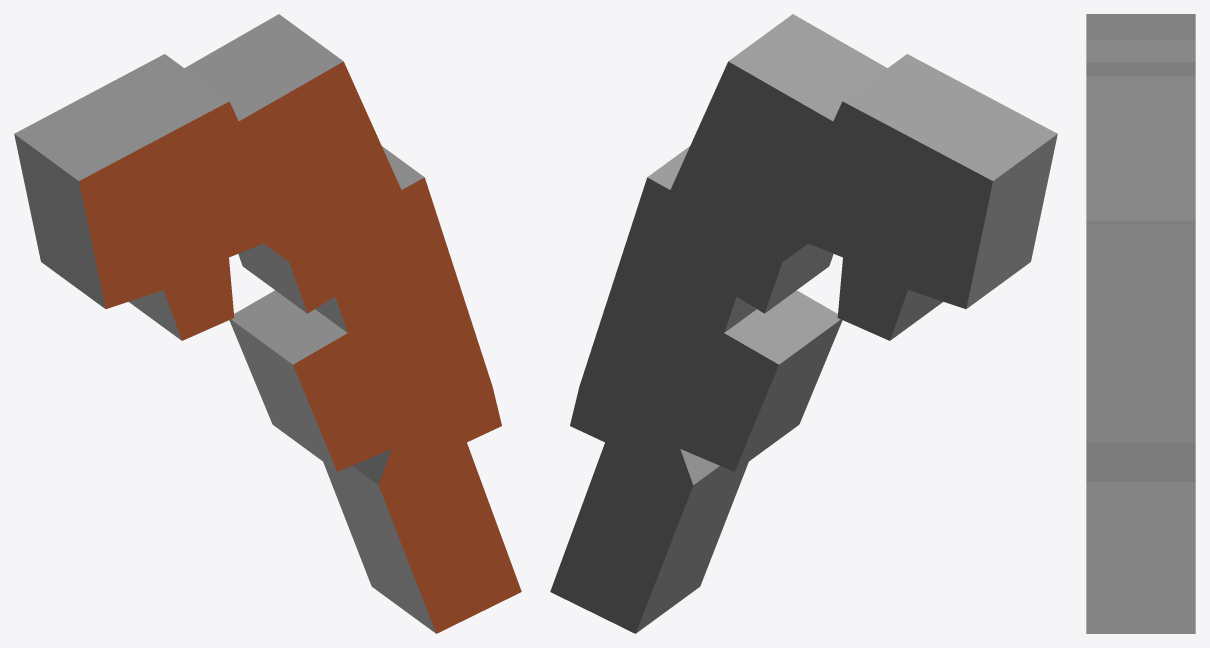
File: construction_6103_assumed_A_Casa_h6m.obj
3 renders of one model, left to right at view 1: azimuth 30°, elevation 25°; view 2: azimuth 150°, elevation 25°; view 3: azimuth 270°, elevation 25°, orthographic. The views are drawn at different scales.
Parts seen in each view (by area): view 1: construction_6103_assumed_A_Casa; view 2: construction_6103_assumed_A_Casa; view 3: construction_6103_assumed_A_Casa.
Boxes of the visible parts, x1,y1,x2,y2 form: construction_6103_assumed_A_Casa: (14, 14, 521, 633); construction_6103_assumed_A_Casa: (550, 14, 1057, 633); construction_6103_assumed_A_Casa: (1086, 14, 1195, 633).
Bounding box in the file's own units: 23.69 × 30.42 × 6.
